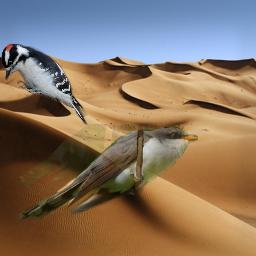Cuckoo: (15, 124, 198, 220)
Woodpecker: (0, 42, 90, 127)
